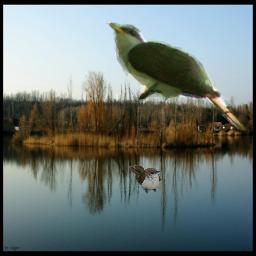Cuckoo: (105, 22, 248, 131), (129, 165, 162, 194)
